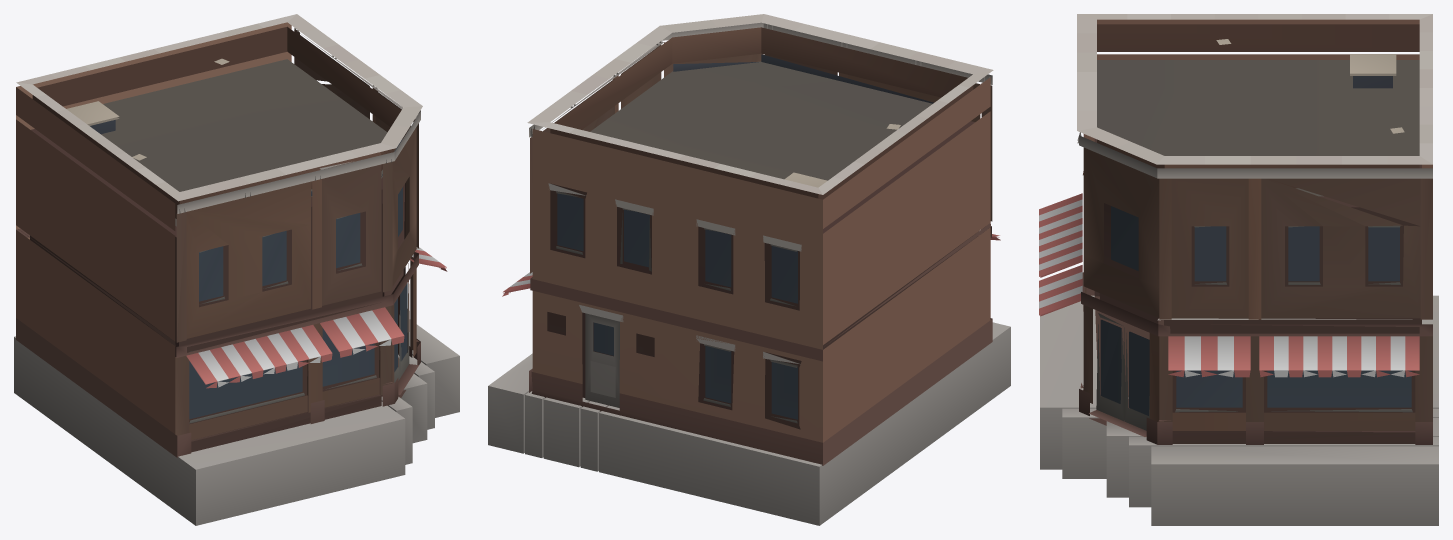
The model's file is corner.lod.glb.
3 views of the same model, side by side, from view 1: azimuth 30°, elevation 25°; view 2: azimuth 150°, elevation 25°; view 3: azimuth 270°, elevation 25° (orthographic). The views are drawn at different scales.
Visible parts, largest first — view 1: corner; view 2: corner; view 3: corner.
Part boxes in pixels (bbox=[...]): corner: bbox=[14, 14, 459, 525]; corner: bbox=[488, 14, 1010, 525]; corner: bbox=[1039, 14, 1438, 525].
Bounding box in the file's own units: 8.98 × 8.5 × 8.98.
